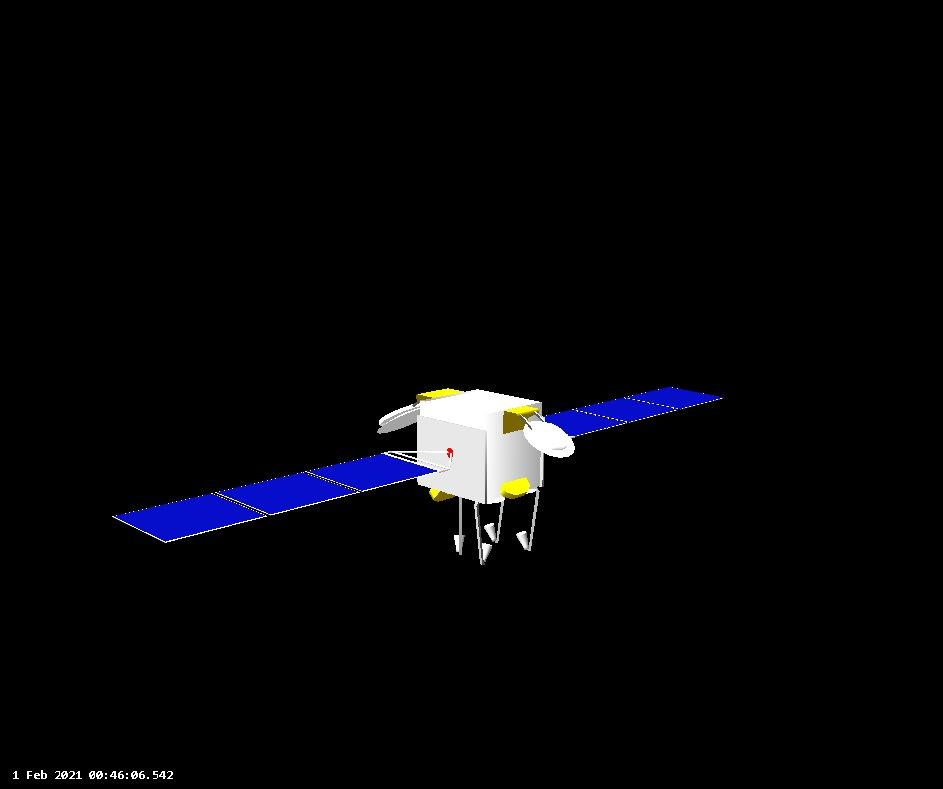antenna: (522, 415, 579, 462), (367, 405, 424, 434)
body: (410, 384, 556, 508)
solar: (102, 445, 441, 548), (535, 383, 728, 455)
